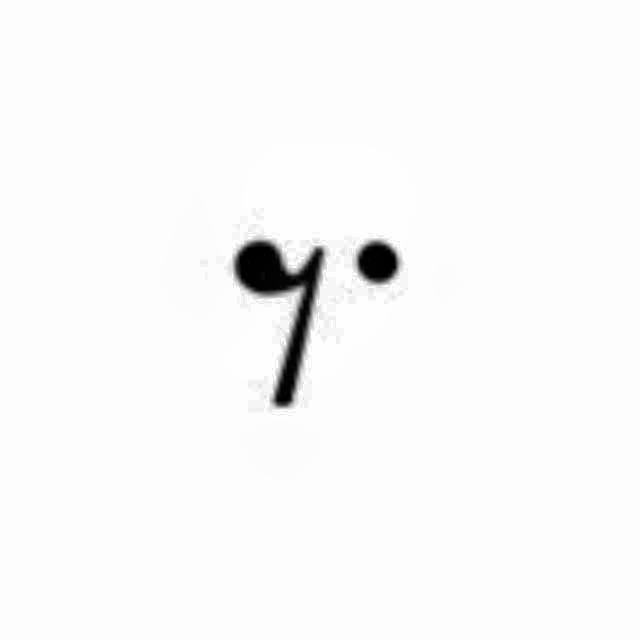Eighth-rest: (221, 224, 419, 424)
